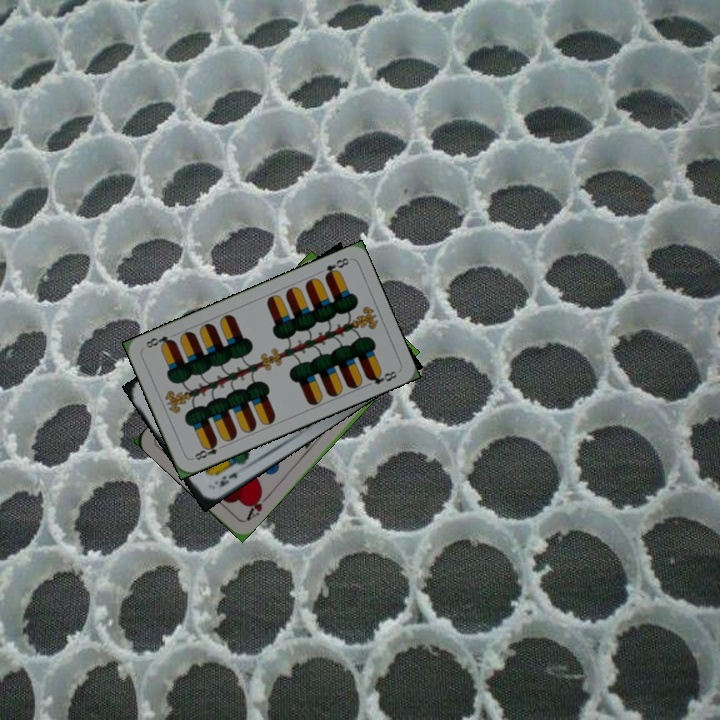E8: (188, 437, 227, 463), (321, 254, 352, 281)
EK: (210, 468, 240, 490)
HA: (242, 488, 272, 523)
